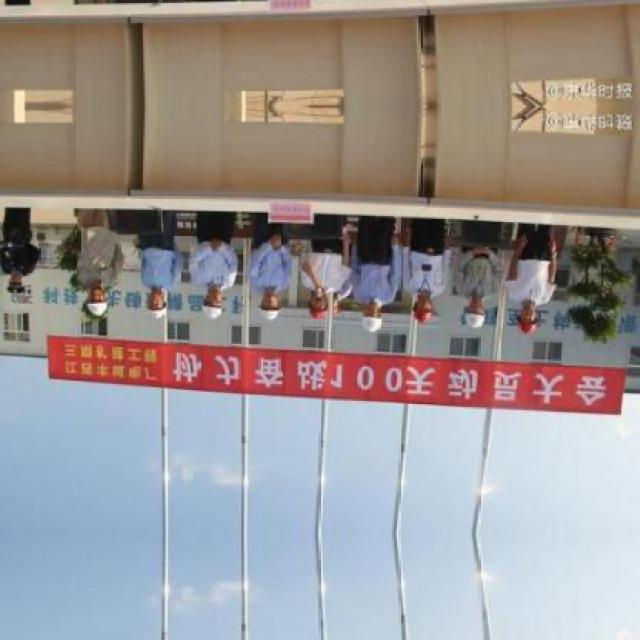con casco: (287, 264, 347, 350), (398, 263, 449, 345), (358, 276, 405, 356), (120, 275, 179, 329), (250, 280, 294, 333), (511, 298, 566, 337), (200, 274, 232, 340), (72, 280, 120, 323), (464, 295, 497, 335)
sin casco: (4, 263, 44, 298)
